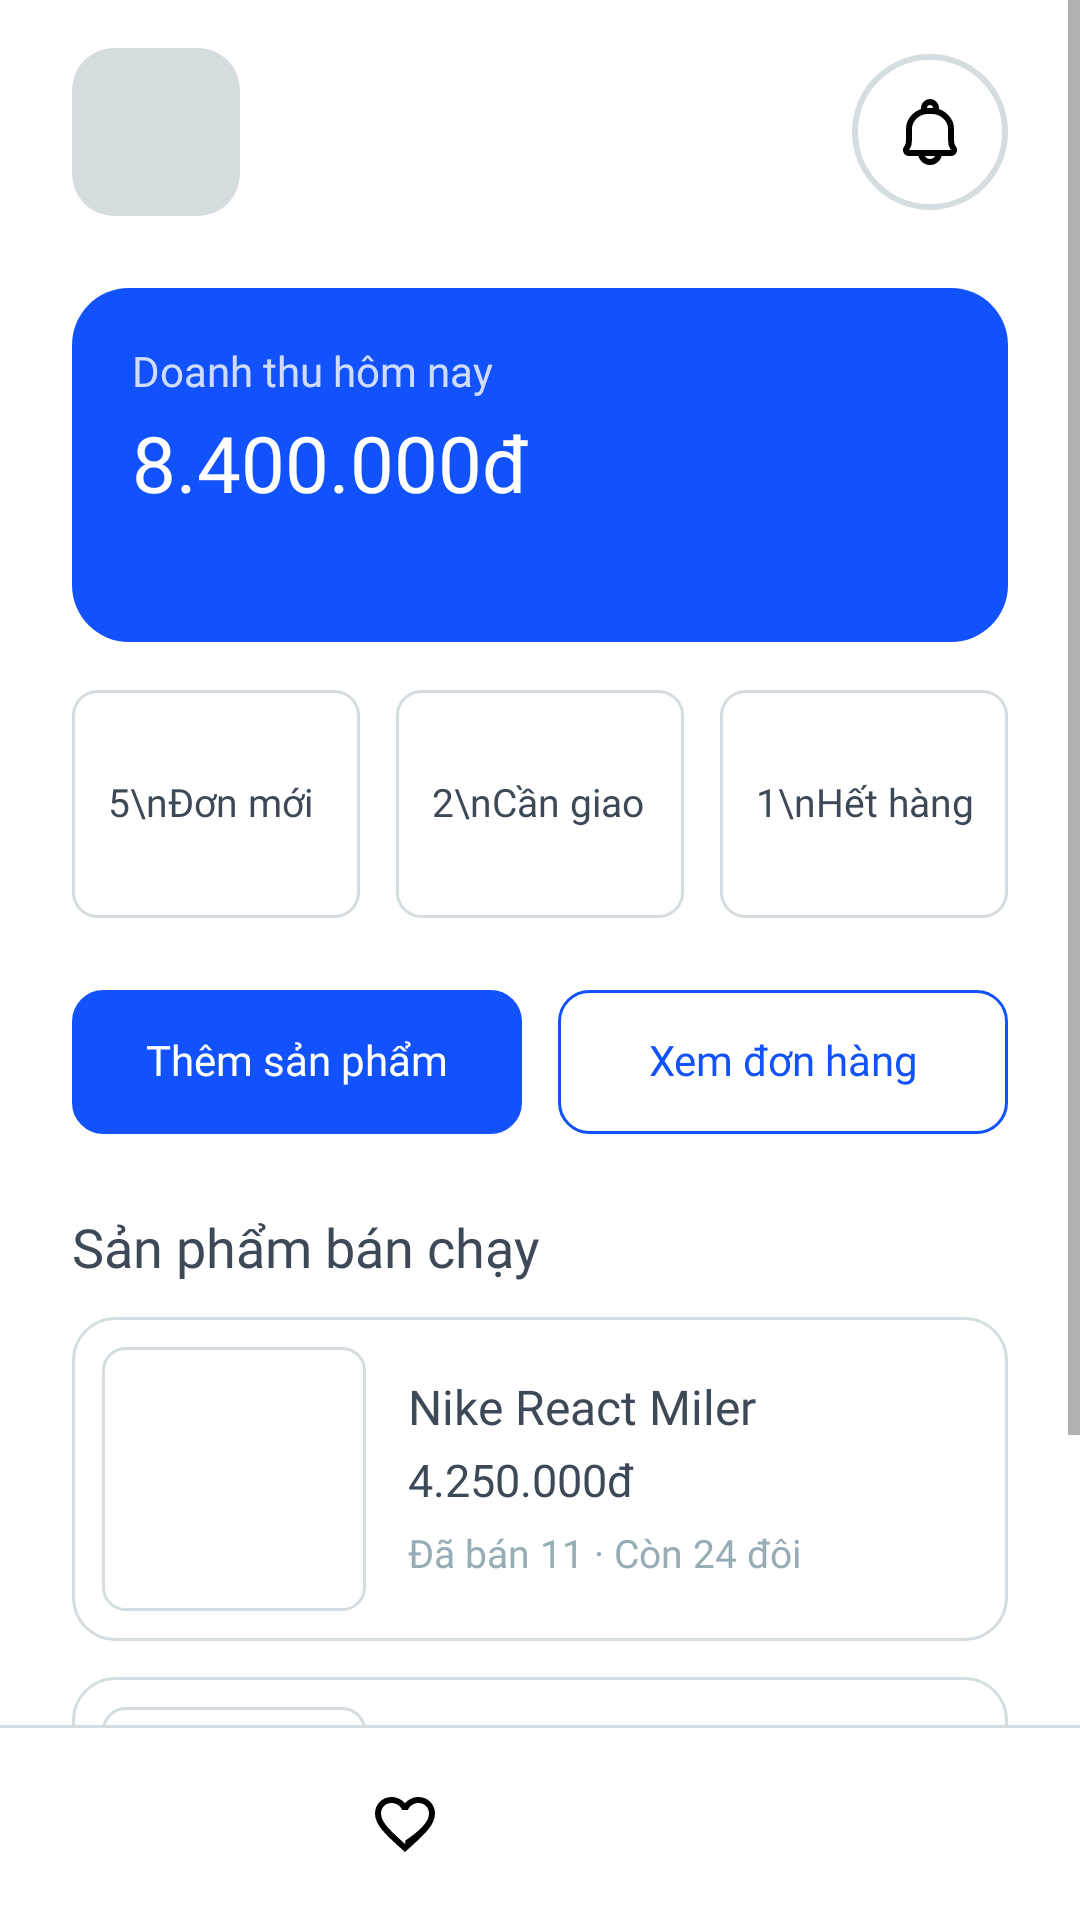

Named icons in this screenshot (1080px×1920px) and their centers, (x=x, y=y):
Thông báo: (x=930, y=132)
Wishlist: (x=405, y=1824)
